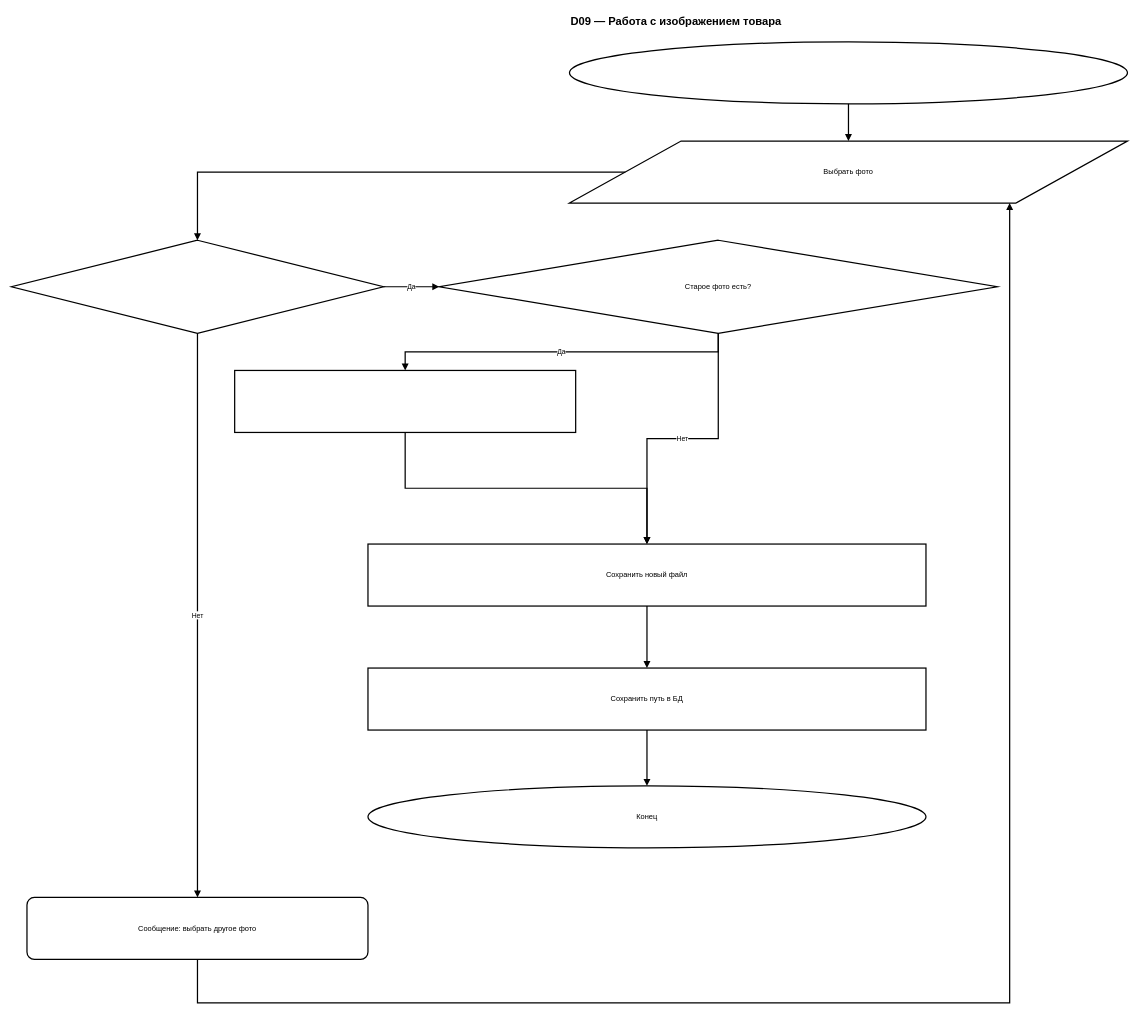
Image size: 1138x1019. Some labels were removed from this diagram. Here are the shapes that lost their labels. From the top down, the centre of each, then its label:
the point at 848,72: Начало
the point at 197,286: Размер не больше 300×200?
the point at 405,401: Удалить старый файл
